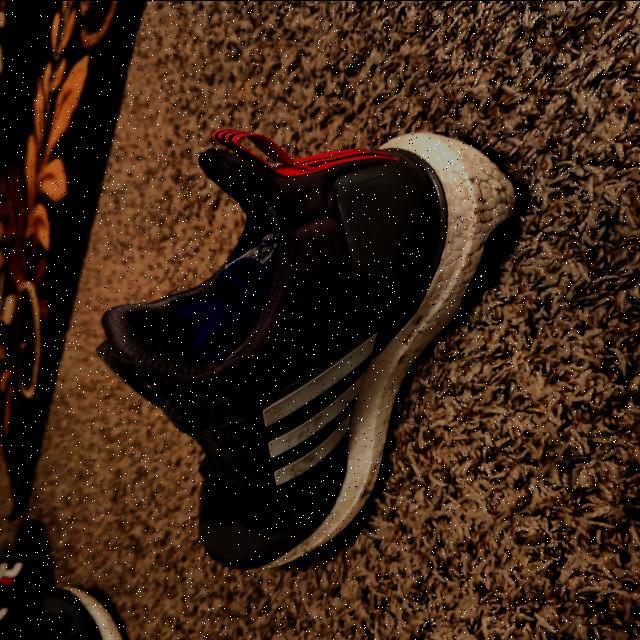black shoes: (101, 133, 522, 562)
